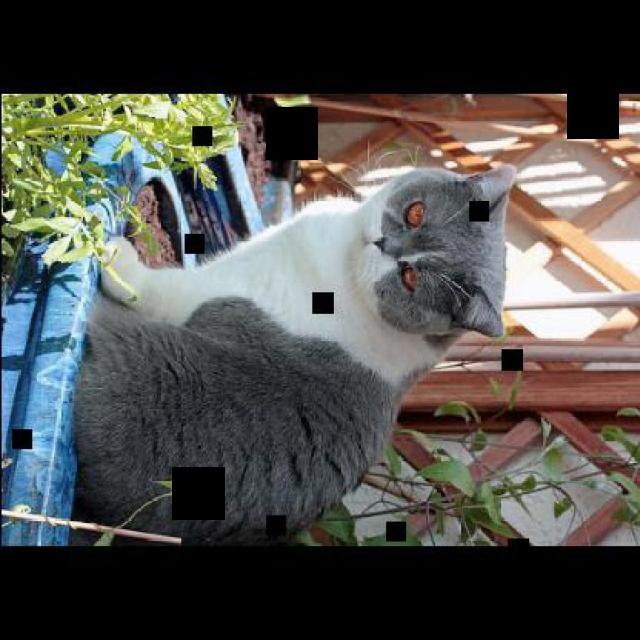unauthorized: (68, 160, 517, 545)
